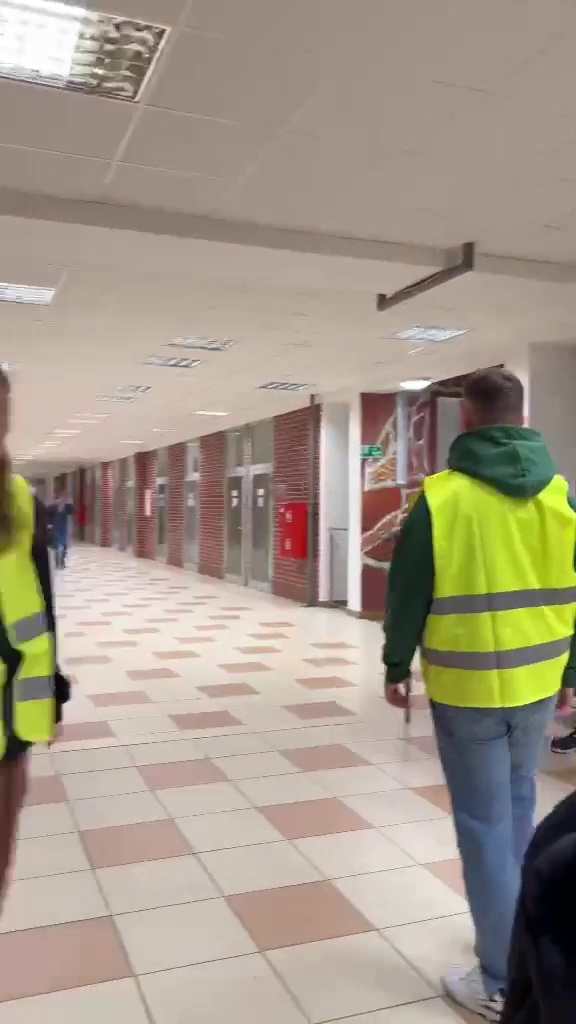vest: (362, 364, 576, 1024), (0, 356, 60, 930)
